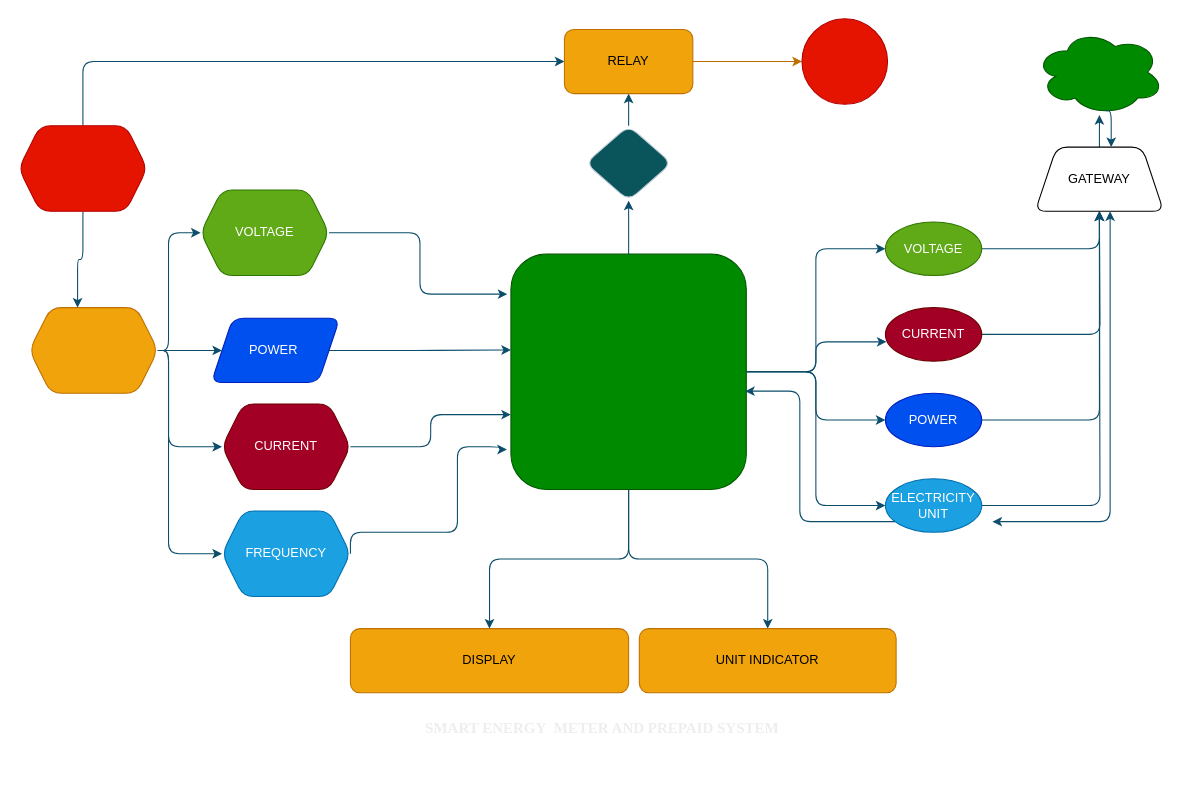
Image size: 1182x786. Some labels were removed from this diagram. Each missing label, with the box of its shape:
AC INPUT: (18, 125, 147, 211)
CLOUD: (1034, 28, 1164, 115)
LOAD: (801, 18, 888, 104)
MICROCONTROLLER: (510, 253, 746, 490)
PZEM MODULE: (28, 307, 158, 393)
UNIT LOW?: (585, 125, 671, 201)
